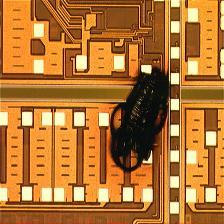PARTICLE: (107, 63, 177, 177)
